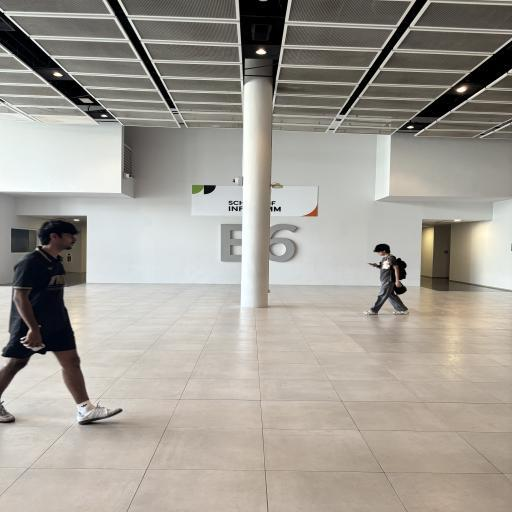person_left: (4, 202, 126, 436), (348, 238, 420, 322)
